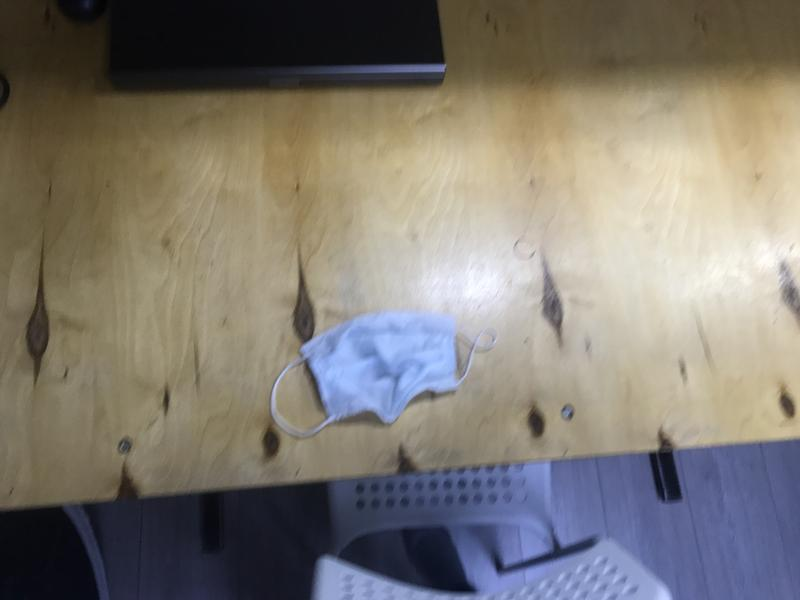medical_mask: (270, 313, 498, 437)
